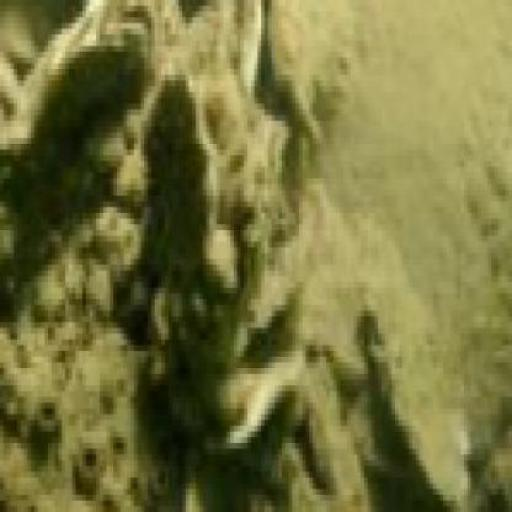Oyster-Closed: (207, 362, 309, 457)
Oyster-Open: (145, 78, 266, 397), (7, 4, 153, 154)
